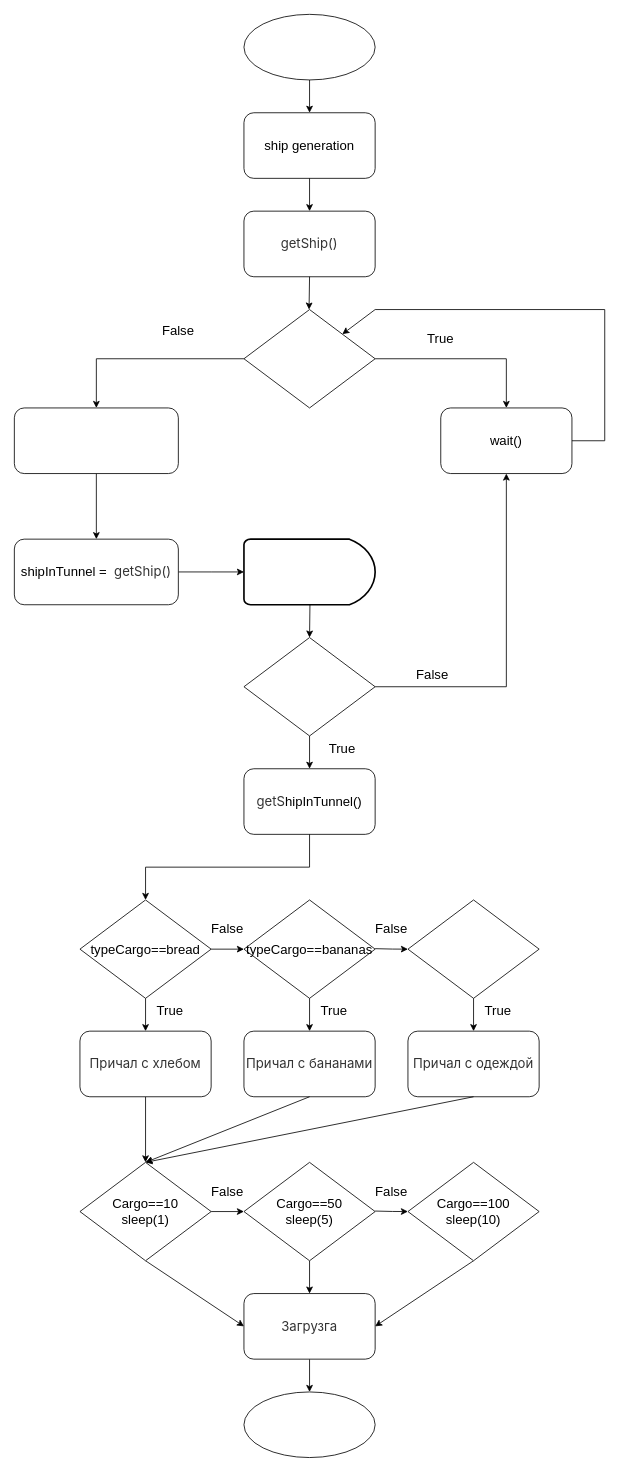
Some shapes in this 626 by 1472 pixel diagram are drawn without their labels. Each missing label, with the box of its shape:
End: (243, 1391, 375, 1458)
If (shipInTunnel > 5): (243, 309, 375, 408)
notifyAll(): (14, 407, 178, 474)
shipInTunnel > 0: (243, 637, 375, 736)
Start: (243, 14, 375, 80)
Tunnel: (243, 538, 376, 605)
typeCargo== cloth: (407, 899, 539, 998)
